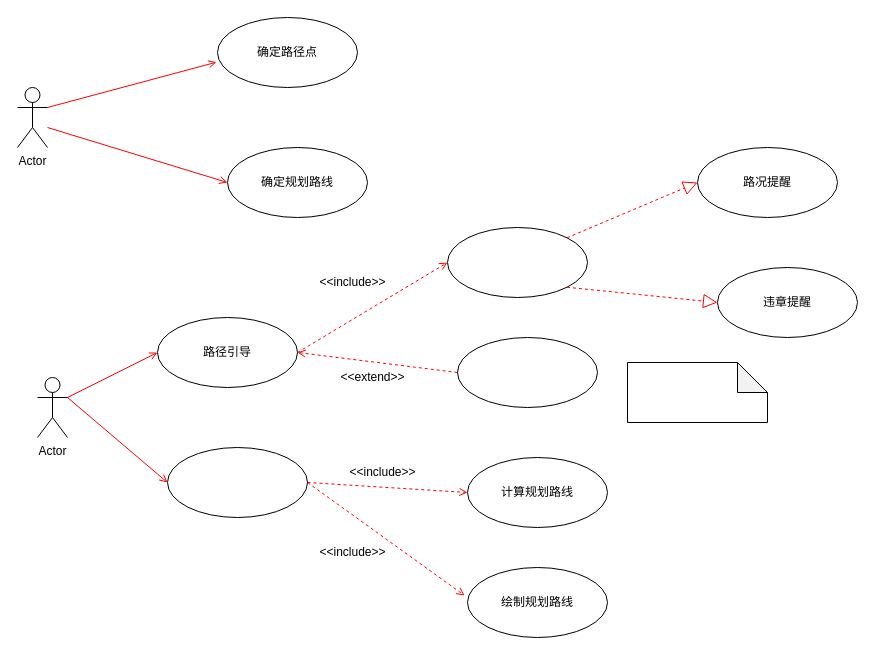
The diagram is 875 pixels wide and 655 high, and some of its shapes have lost their labels. The shapes that lost their labels are listed below. From the top down, each one's box as (x1, y1, x2, y2) in pixels, then its label:
(446, 226, 588, 298): 语音提示
(456, 336, 598, 408): 重新规划路线
(626, 362, 768, 422): 如果驾驶员没按照 引导进行驾驶
(166, 446, 308, 518): 路径规划
